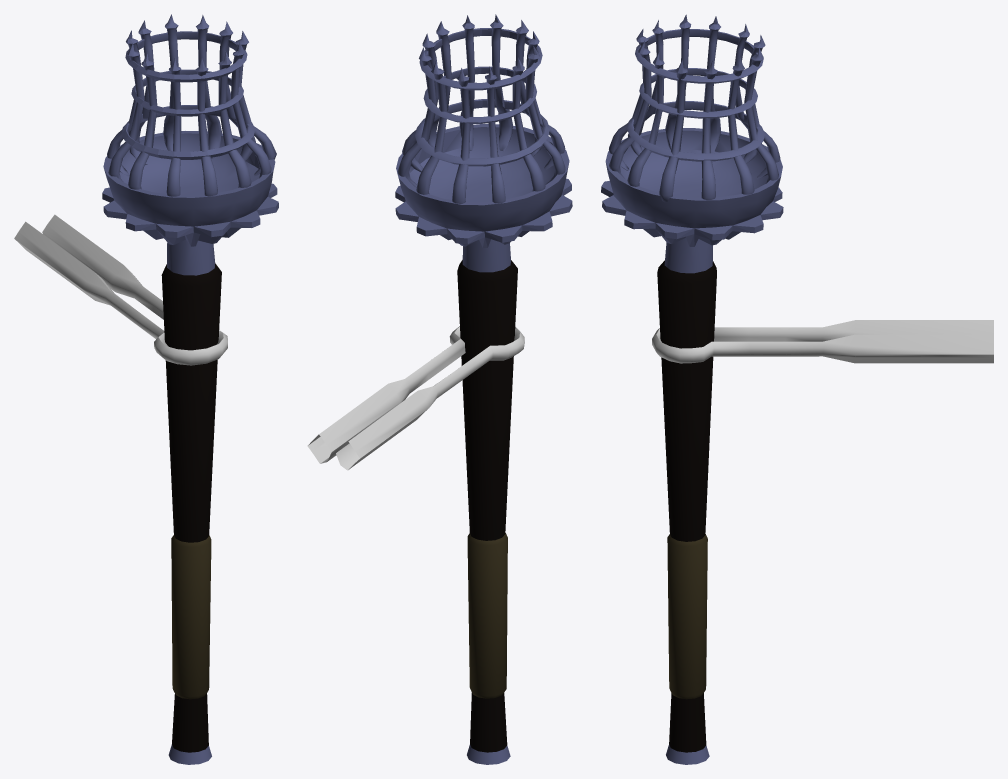
Rendered from TorchWall_17.fbx.
3 renders of one model, left to right at view 1: azimuth 30°, elevation 25°; view 2: azimuth 150°, elevation 25°; view 3: azimuth 270°, elevation 25°, orthographic.
Parts seen in each view (by area): view 1: TorchWall_17; view 2: TorchWall_17; view 3: TorchWall_17.
Boxes of the visible parts, x1,y1,x2,y2 form: TorchWall_17: [14, 14, 278, 764]; TorchWall_17: [307, 14, 572, 764]; TorchWall_17: [601, 14, 993, 764].
Size of the model in its own units: 14.34 by 32.05 by 65.33.
